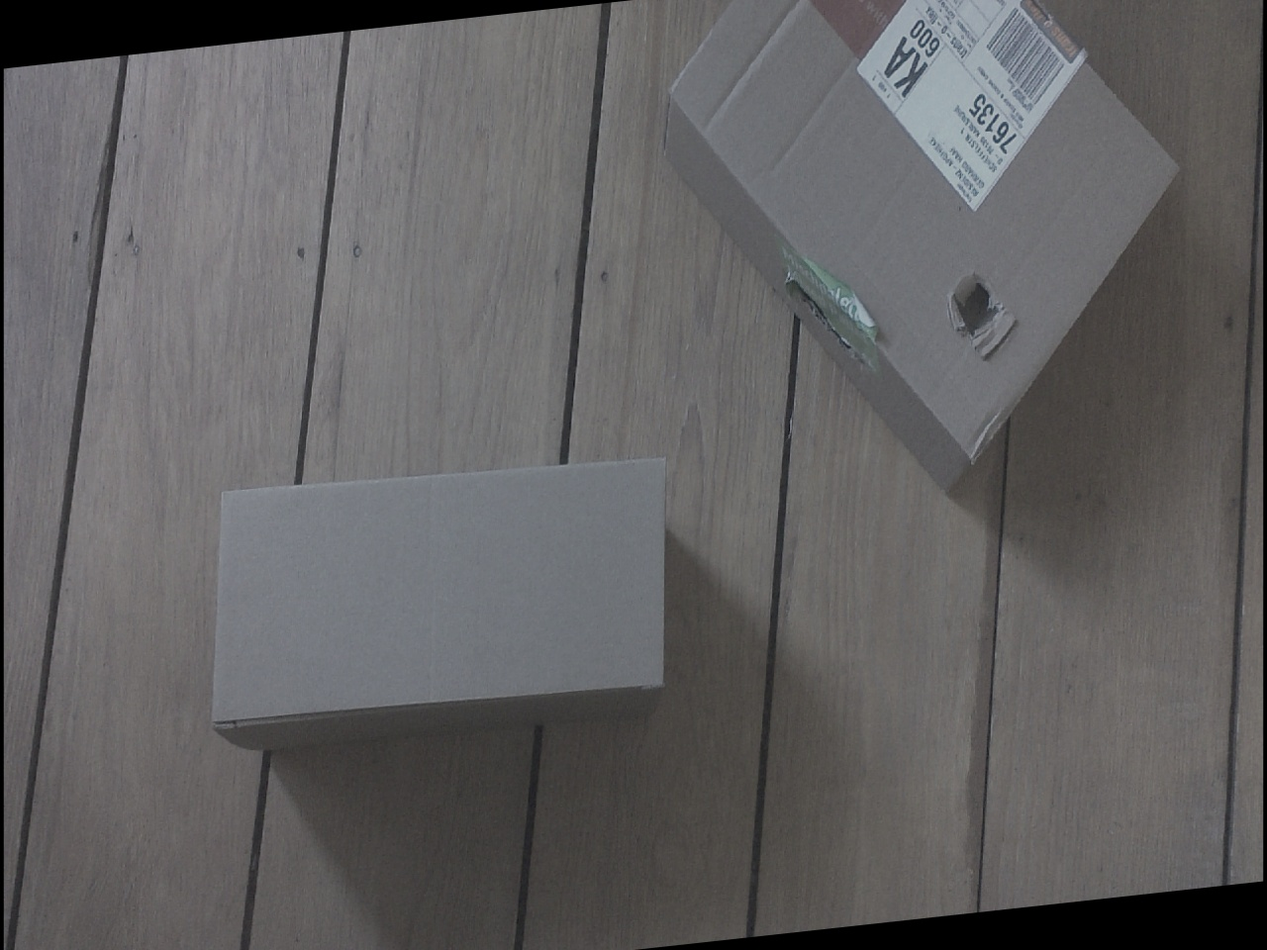good-parcel: (203, 466, 698, 754)
